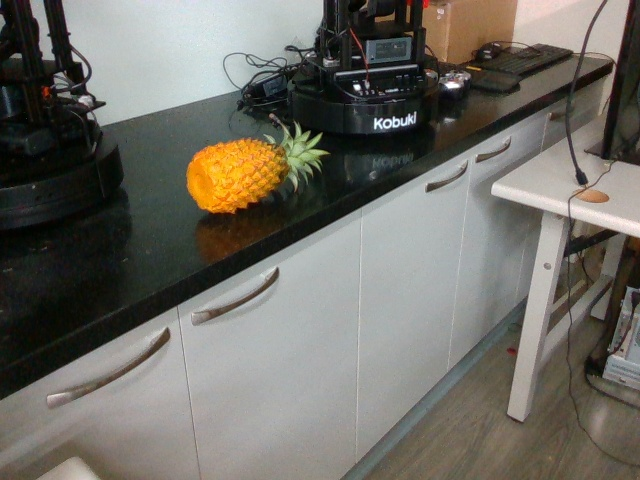pineapple: (183, 121, 330, 215)
